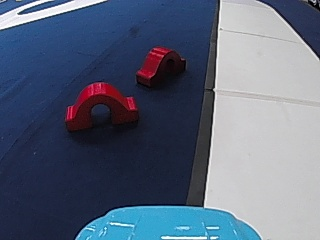bridge: (60, 77, 141, 130), (134, 42, 185, 89)
